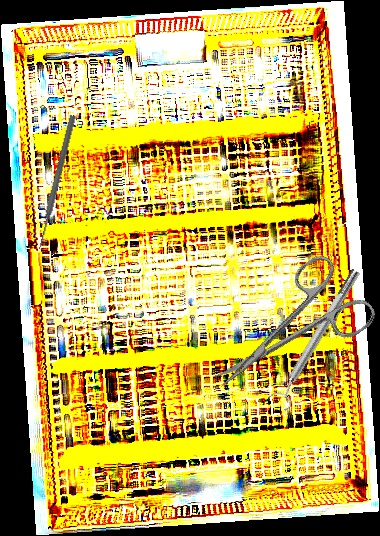Fixation Ring: (266, 265, 368, 412)
Iris Scissors: (191, 246, 380, 416)
Pusher: (34, 114, 78, 251)
